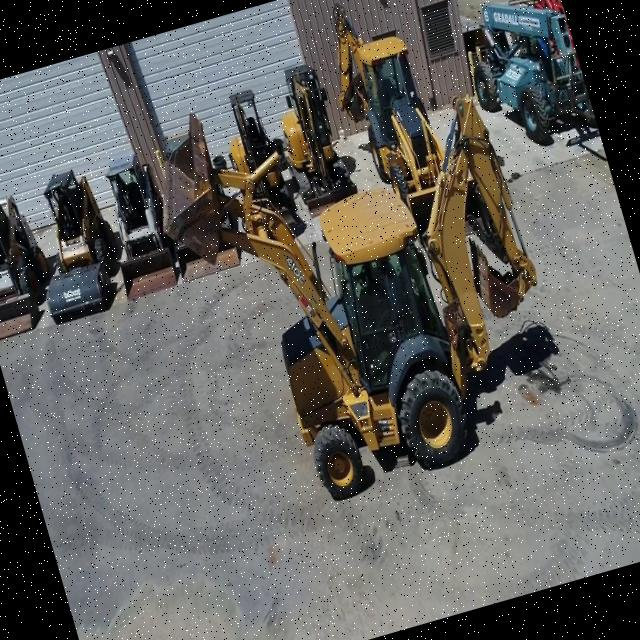Excavator: (262, 56, 362, 216), (209, 78, 303, 240)
Loader: (13, 161, 132, 324), (88, 152, 181, 302), (0, 188, 62, 339)
